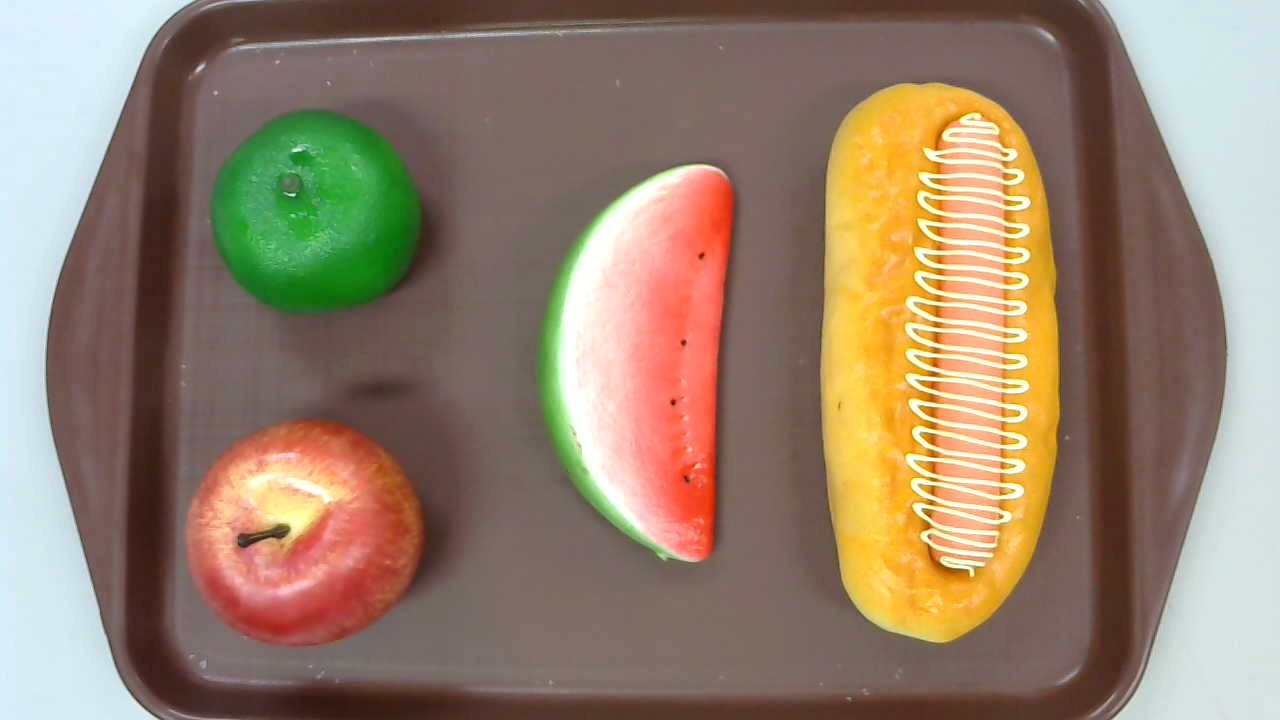green orange: (210, 109, 421, 316)
hot dog: (823, 82, 1060, 642)
red apple: (184, 416, 426, 647)
water melon: (535, 164, 735, 567)
